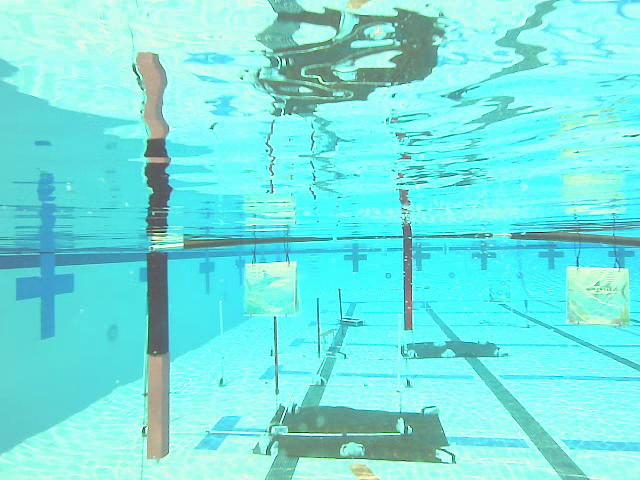left_gate_poster: (143, 245, 176, 466)
shark: (243, 262, 298, 317)
swordfish: (565, 266, 631, 330)
